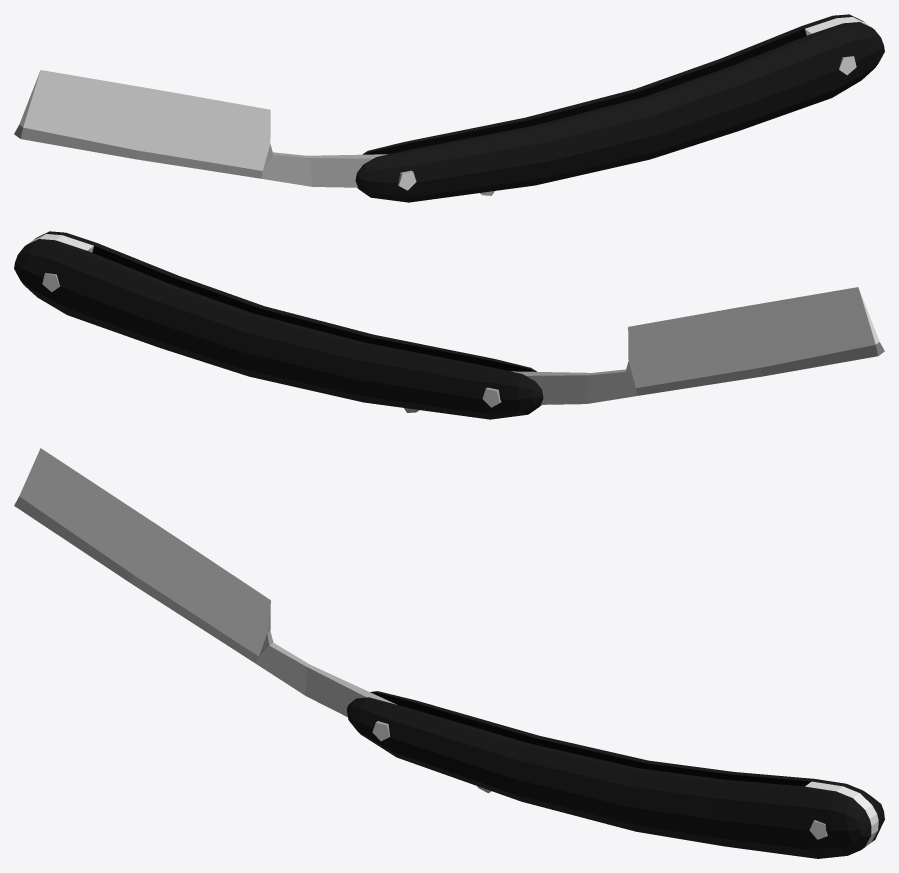
File: CutthroatRazor.fbx
The picture shows the model from 3 angles, top to bottom: view 1: azimuth 30°, elevation 25°; view 2: azimuth 150°, elevation 25°; view 3: azimuth 330°, elevation 25°; orthographic projection.
Visible parts, largest first — view 1: ZomboidCutthroattRazor; view 2: ZomboidCutthroattRazor; view 3: ZomboidCutthroattRazor.
Part boxes in pixels (x1,y1,x2,y2): ZomboidCutthroattRazor: [14, 14, 884, 202]; ZomboidCutthroattRazor: [14, 231, 884, 419]; ZomboidCutthroattRazor: [14, 448, 884, 858].
Bounding box in the file's own units: 0.2435 × 0.0636 × 0.0146.
